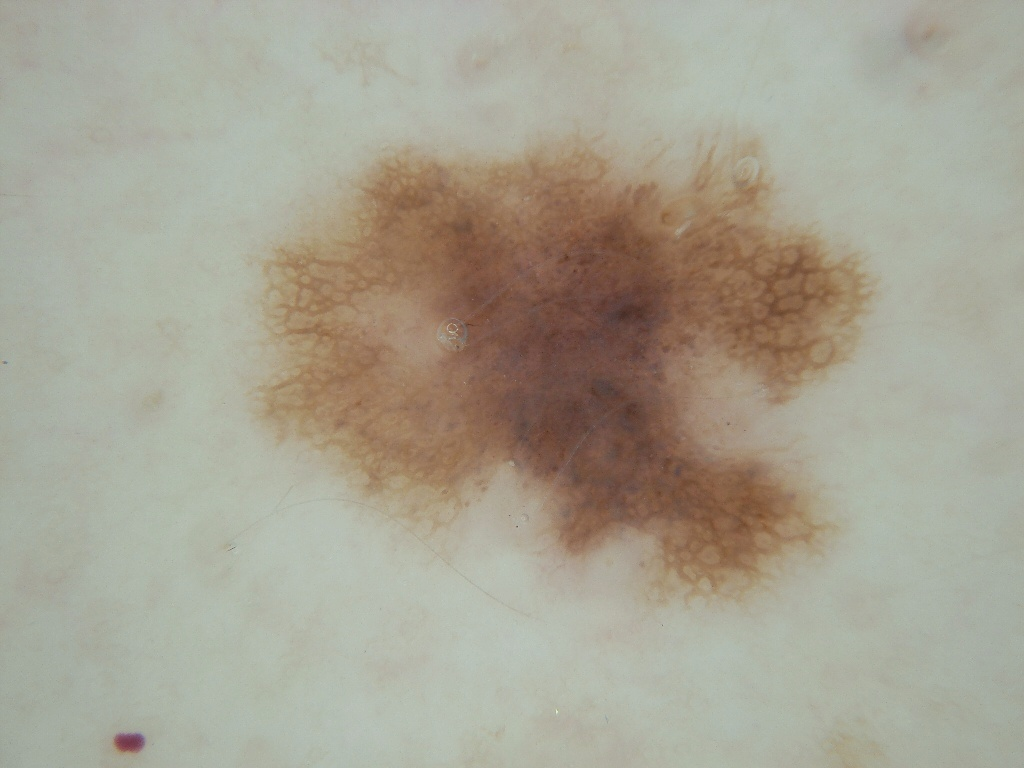Detected Lesion: (253, 124, 886, 593)
